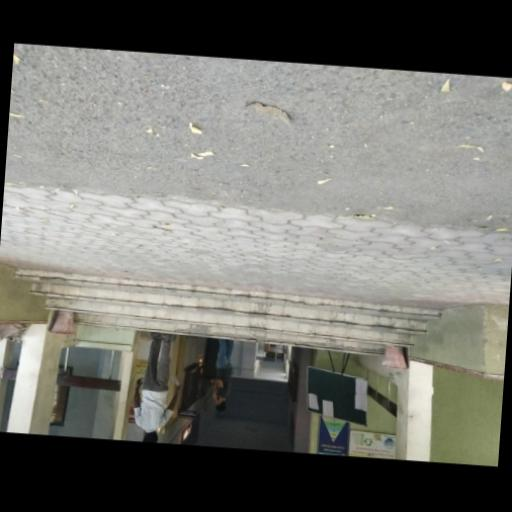stairs: (15, 268, 439, 354)
